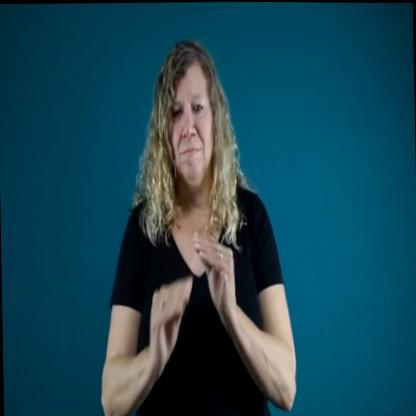Fix: (91, 25, 296, 416)
